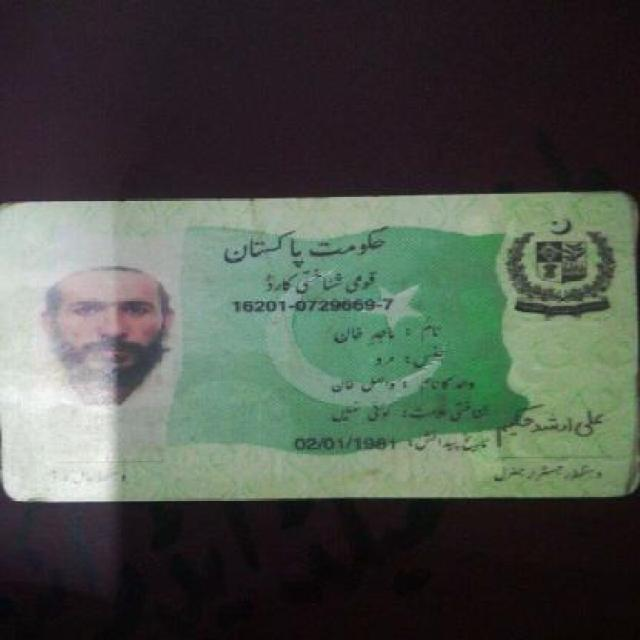Front: (6, 194, 628, 503)
